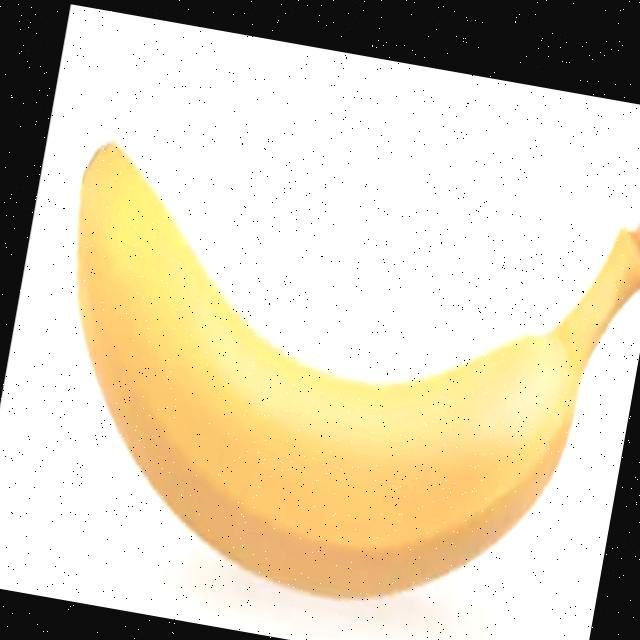Ripe: (3, 47, 640, 640)
